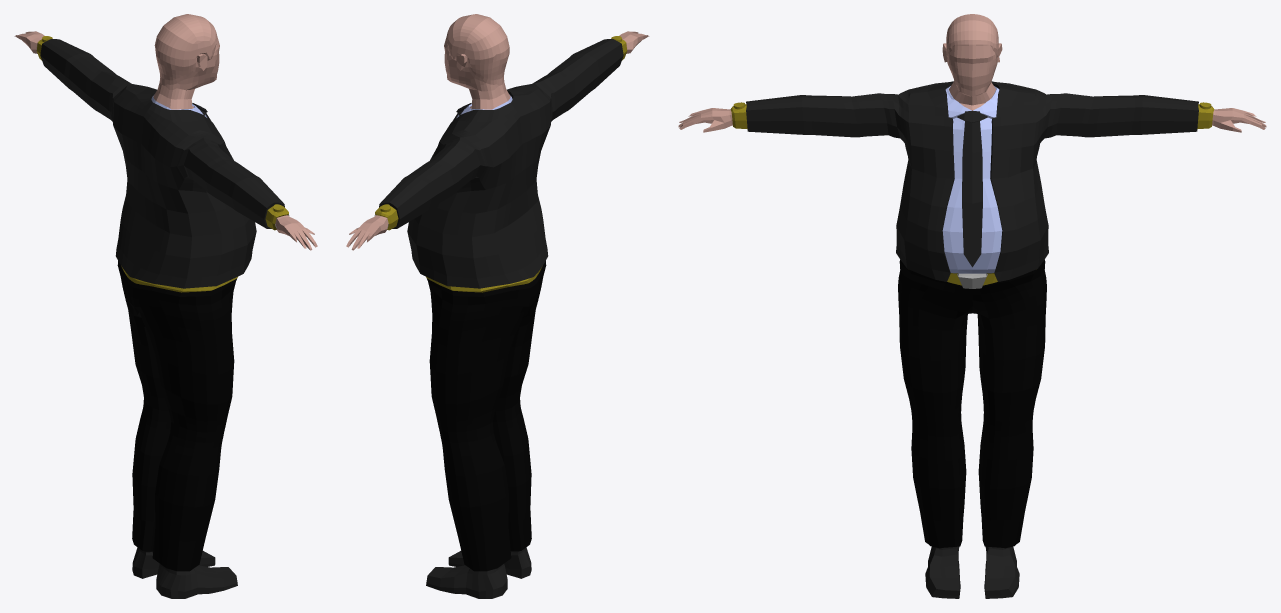
File: EvilcorpBOSS_T_Pose.fbx
The picture shows the model from 3 angles, left to right: view 1: azimuth 30°, elevation 25°; view 2: azimuth 150°, elevation 25°; view 3: azimuth 270°, elevation 25°; orthographic projection.
Visible parts, largest first — view 1: Cube.002; view 2: Cube.002; view 3: Cube.002.
Part boxes in pixels (x1,y1,x2,y2): Cube.002: (14,14,317,598); Cube.002: (346,14,649,598); Cube.002: (678,14,1266,598).
Bounding box in the file's own units: 62.67 × 278 × 262.
